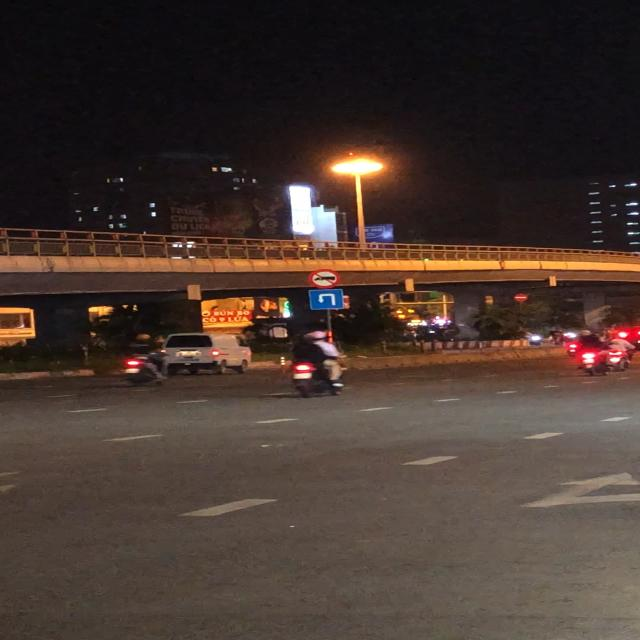Bien bao cam xe so-mi ro-mooc: (306, 268, 342, 290)
